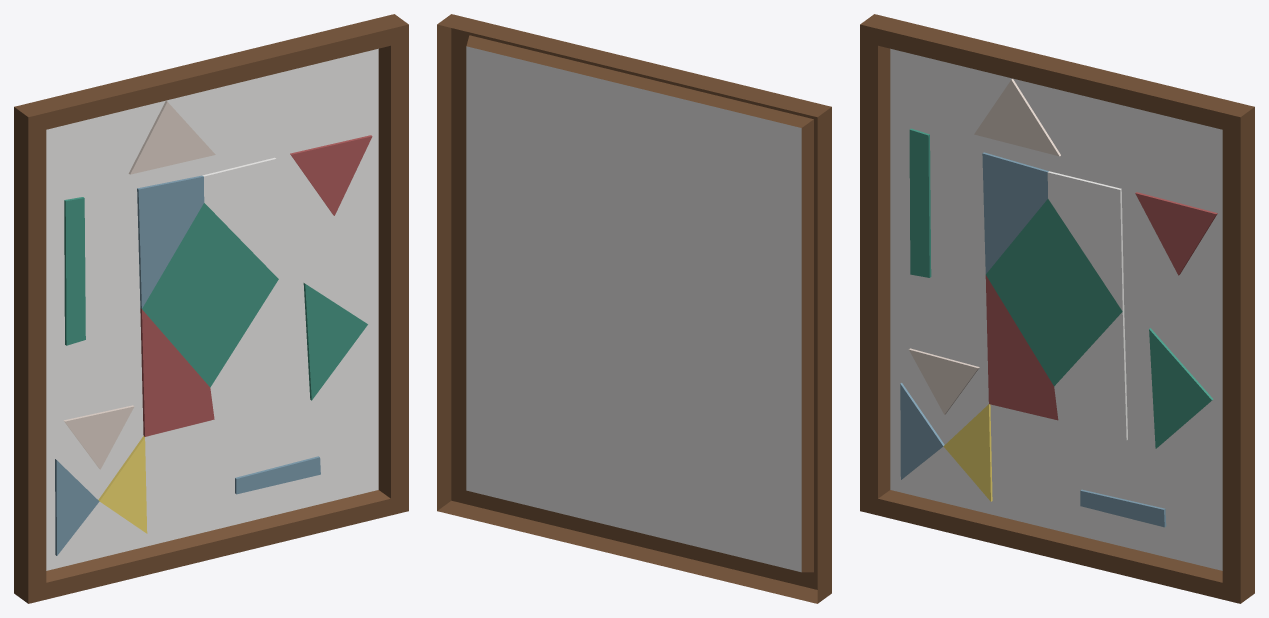
Rendered from Picture_11.fbx.
The picture shows the model from 3 angles, left to right: view 1: azimuth 30°, elevation 25°; view 2: azimuth 150°, elevation 25°; view 3: azimuth 330°, elevation 25°; orthographic projection.
Parts seen in each view (by area): view 1: Picture_11; view 2: Picture_11; view 3: Picture_11.
Boxes of the visible parts, x1=… form: Picture_11: x1=14, y1=14, x2=408, y2=603; Picture_11: x1=437, y1=14, x2=831, y2=603; Picture_11: x1=860, y1=14, x2=1254, y2=603.
Size of the model in its own units: 106 by 6.9 by 129.
